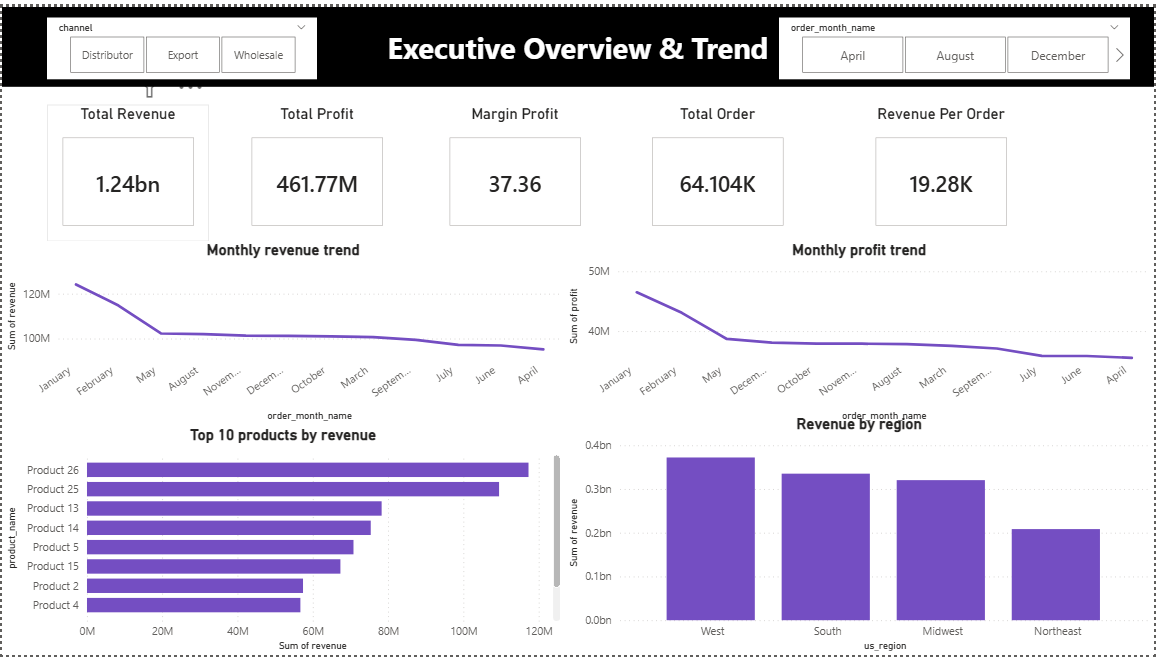

The page's visual inventory and layout, read from the dashboard file:
{"tool":"powerbi","page":{"name":"Overview","canvas":[1280,720],"ordinal":1},"visuals":[{"type":"cardVisual","title":"Total Revenue","fields":{"Data":["Sum(Sales_data(EDA Exported).revenue)"]},"box":[50,108.3,180,151.7],"z":0},{"type":"lineChart","title":"Monthly revenue trend","fields":{"Category":["Sales_data(EDA Exported).order_month_name"],"Y":["Sum(Sales_data(EDA Exported).revenue)"]},"box":[0,260,625,205],"z":5000},{"type":"lineChart","title":"Monthly profit trend","fields":{"Category":["Sales_data(EDA Exported).order_month_name"],"Y":["Sum(Sales_data(EDA Exported).profit)"]},"box":[625,260,655,205],"z":6000},{"type":"clusteredBarChart","title":"Top 10 products by revenue","fields":{"Category":["Sales_data(EDA Exported).product_name"],"Y":["Sum(Sales_data(EDA Exported).revenue)"]},"box":[0,465,625,255],"z":7000},{"type":"lineStackedColumnComboChart","title":"Revenue by region","fields":{"Category":["Sales_data(EDA Exported).us_region"],"Y":["Sum(Sales_data(EDA Exported).revenue)"]},"box":[625,453.3,655,266.7],"z":7001},{"type":"textbox","box":[0,0,1280,88.3],"z":7003},{"type":"slicer","fields":{"Values":["Sales_data(EDA Exported).order_month_name"]},"box":[863.3,11.7,390,68.3],"z":7004},{"type":"slicer","fields":{"Values":["Sales_data(EDA Exported).channel"]},"box":[50,11.7,300,68.3],"z":7005},{"type":"cardVisual","title":"Total Profit","fields":{"Data":["Sum(Sales_data(EDA Exported).profit)"]},"box":[260,108.3,180,151.7],"z":7006},{"type":"cardVisual","title":"Margin Profit","fields":{"Data":["Custom Measure.Profit Margin (%)"]},"box":[480,108.3,180,151.7],"z":7007},{"type":"cardVisual","title":"Total Order","fields":{"Data":["CountNonNull(Sales_data(EDA Exported).order_number)"]},"box":[705,108.3,180,151.7],"z":7008},{"type":"cardVisual","title":"Revenue Per Order","fields":{"Data":["Custom Measure.Revenue per Order"]},"box":[953.3,108.3,180,151.7],"z":7009}]}

Visuals, with their boxes in screenshot pixels (x1, y1, x2, y2), scaled from the page's 1280x720 canvas onto the 1156x658 screenshot:
"Total Revenue" cardVisual: bbox(45, 99, 208, 238)
"Monthly revenue trend" lineChart: bbox(0, 238, 564, 425)
"Monthly profit trend" lineChart: bbox(564, 238, 1155, 425)
"Top 10 products by revenue" clusteredBarChart: bbox(0, 425, 564, 657)
"Revenue by region" lineStackedColumnComboChart: bbox(564, 414, 1155, 657)
textbox: bbox(0, 0, 1155, 81)
slicer - Sales_data(EDA Exported).order_month_name: bbox(780, 11, 1132, 73)
slicer - Sales_data(EDA Exported).channel: bbox(45, 11, 316, 73)
"Total Profit" cardVisual: bbox(235, 99, 397, 238)
"Margin Profit" cardVisual: bbox(434, 99, 596, 238)
"Total Order" cardVisual: bbox(637, 99, 799, 238)
"Revenue Per Order" cardVisual: bbox(861, 99, 1024, 238)
